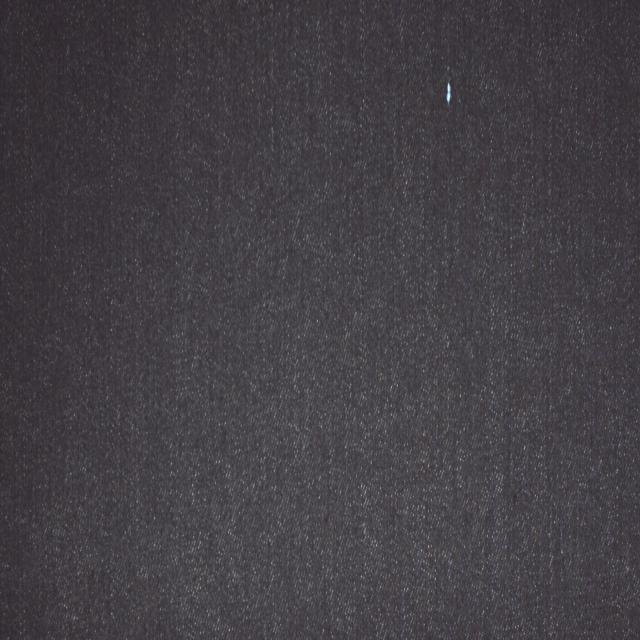Knot: (445, 80, 454, 108)
